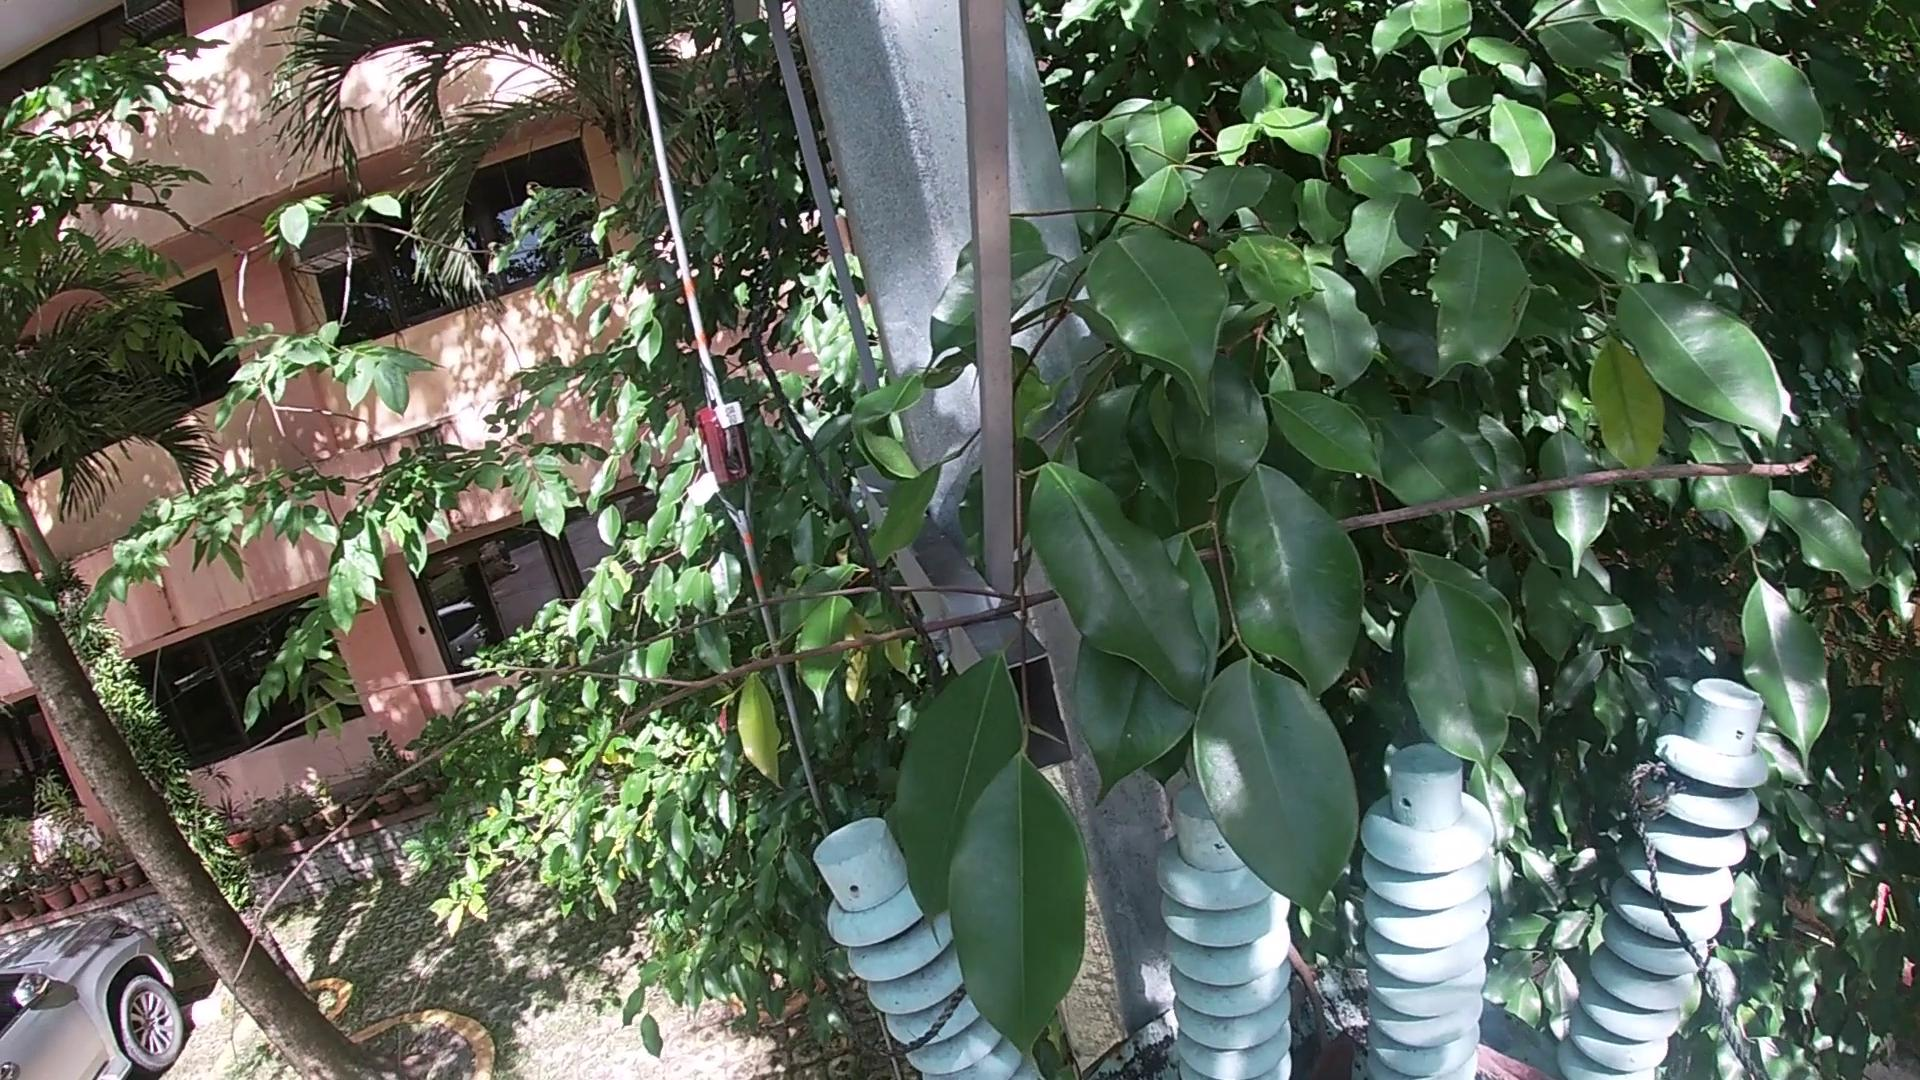mahogany fruit: (1308, 1022, 1361, 1080)
tree branch: (87, 426, 1849, 1068), (1287, 942, 1323, 1046), (1477, 1036, 1559, 1080), (1287, 963, 1321, 1044)
